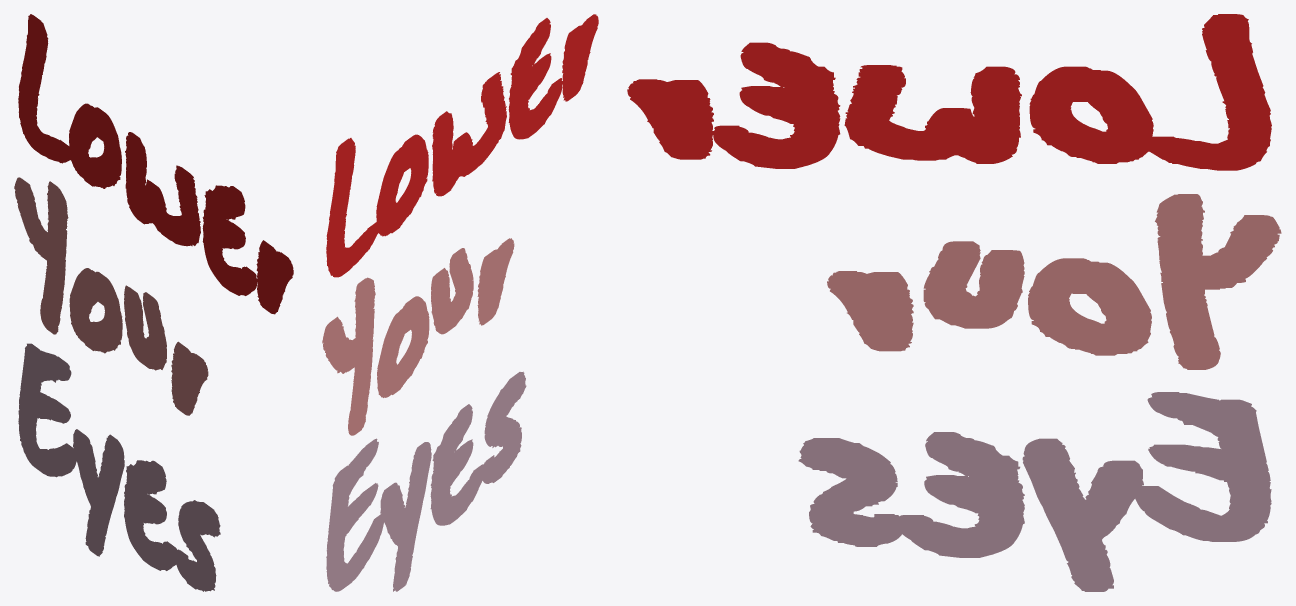
File: render6.gltf
The picture shows the model from 3 angles, left to right: view 1: azimuth 30°, elevation 25°; view 2: azimuth 150°, elevation 25°; view 3: azimuth 270°, elevation 25°; orthographic projection. The views are drawn at different scales.
Visible parts, largest first — view 1: Cap 1 (×3), Extrude, Extrude.2, Extrude.1; view 2: Cap 1 (×3), Extrude, Extrude.2, Extrude.1; view 3: Cap 2 (×3), Extrude, Extrude.2, Extrude.1.
Part boxes in pixels (x1,y1,x2,y2): Cap 1 (×3): (21, 20, 293, 591); Extrude: (18, 14, 291, 311); Extrude.2: (18, 343, 214, 590); Extrude.1: (14, 177, 205, 413); Cap 1 (×3): (329, 14, 598, 586); Extrude: (326, 14, 595, 277); Extrude.2: (326, 372, 519, 591); Extrude.1: (322, 239, 511, 435); Cap 2 (×3): (645, 14, 1281, 591); Extrude: (627, 14, 1247, 170); Extrude.2: (798, 392, 1248, 591); Extrude.1: (827, 194, 1280, 369).
Bounding box in the file's own units: 1.64e-13 × 726 × 745.
